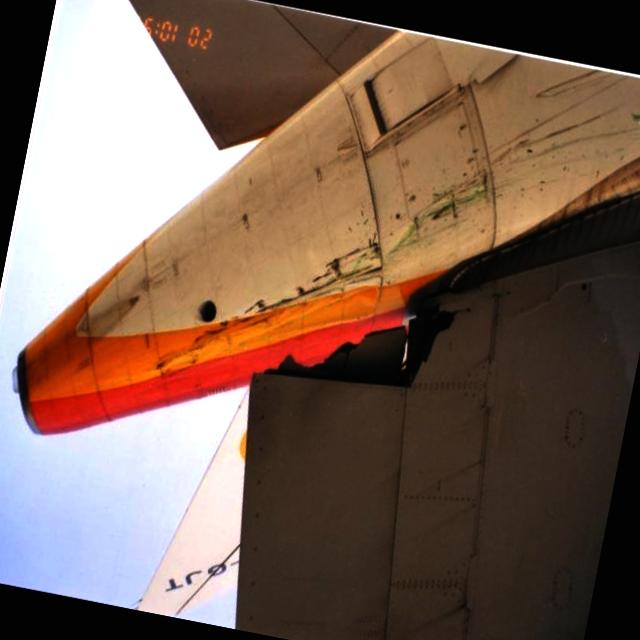crack: (250, 261, 480, 419)
